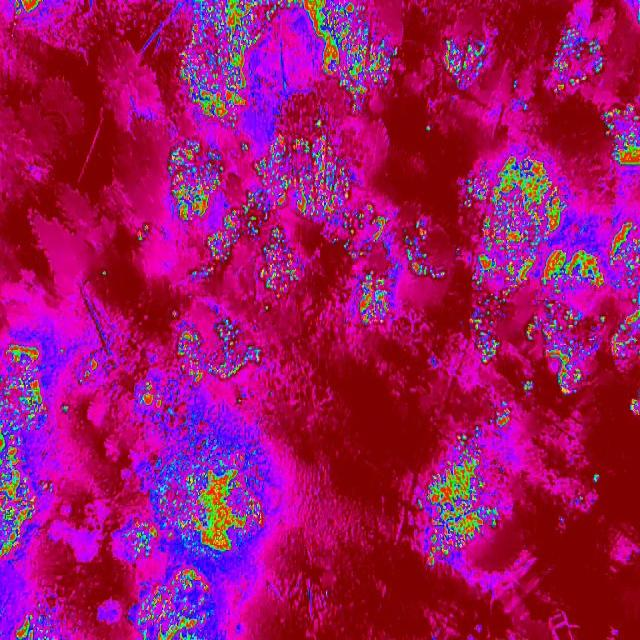fire: (462, 156, 608, 392), (220, 135, 348, 293), (157, 440, 266, 556), (0, 337, 53, 565), (302, 0, 400, 114), (178, 0, 264, 129), (418, 435, 502, 567), (170, 309, 260, 386), (135, 570, 214, 640), (607, 213, 640, 368), (167, 138, 223, 220), (350, 203, 396, 283), (548, 25, 602, 93), (401, 218, 445, 282), (602, 104, 640, 168), (442, 36, 487, 86), (12, 599, 55, 640), (356, 282, 396, 324), (122, 517, 156, 559), (136, 380, 166, 410), (264, 0, 302, 20), (490, 400, 511, 426), (8, 0, 42, 16), (78, 358, 99, 382), (206, 230, 222, 260), (134, 221, 152, 245), (190, 266, 214, 282), (511, 99, 530, 112), (630, 394, 640, 414), (60, 402, 70, 417), (428, 356, 438, 370), (472, 424, 483, 436), (556, 514, 566, 527), (576, 492, 585, 503), (636, 0, 640, 24), (592, 474, 601, 484), (512, 77, 520, 88), (100, 269, 108, 280), (423, 125, 432, 134), (315, 118, 323, 128), (58, 346, 66, 356), (262, 304, 272, 311), (236, 396, 242, 406)
